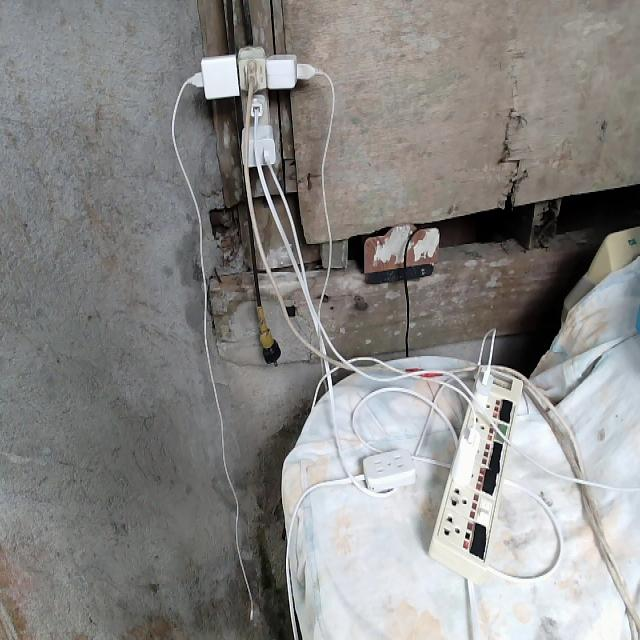-: (187, 44, 321, 175)
